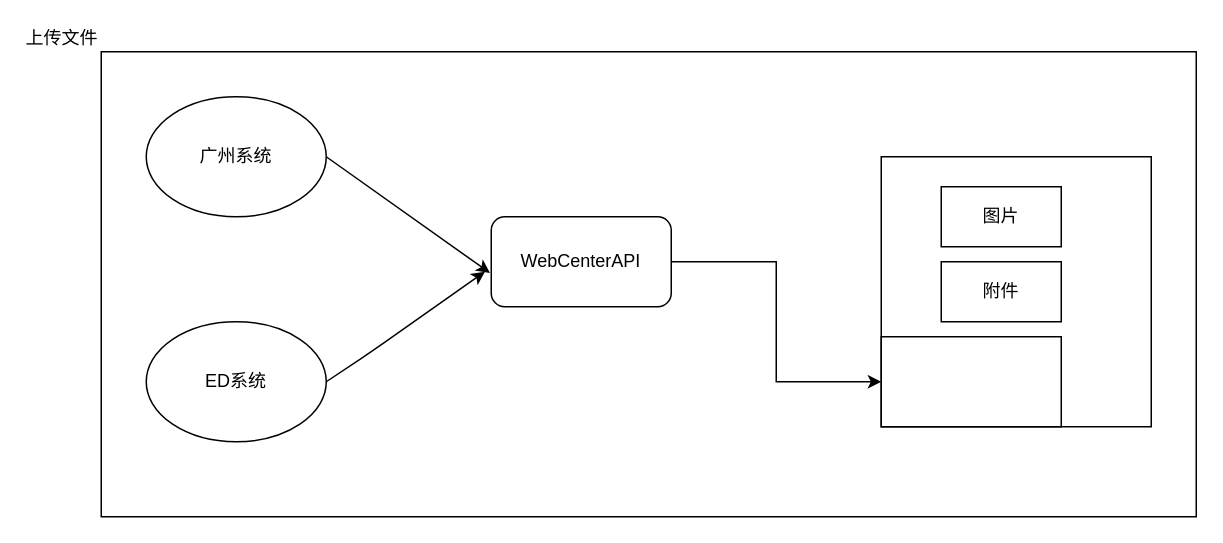
This 1223x543 diagram has some shape labels left out. Each missing label, with the box of its shape:
WCF服务: (880, 335, 1061, 427)
文件服务器: (880, 155, 1151, 427)
